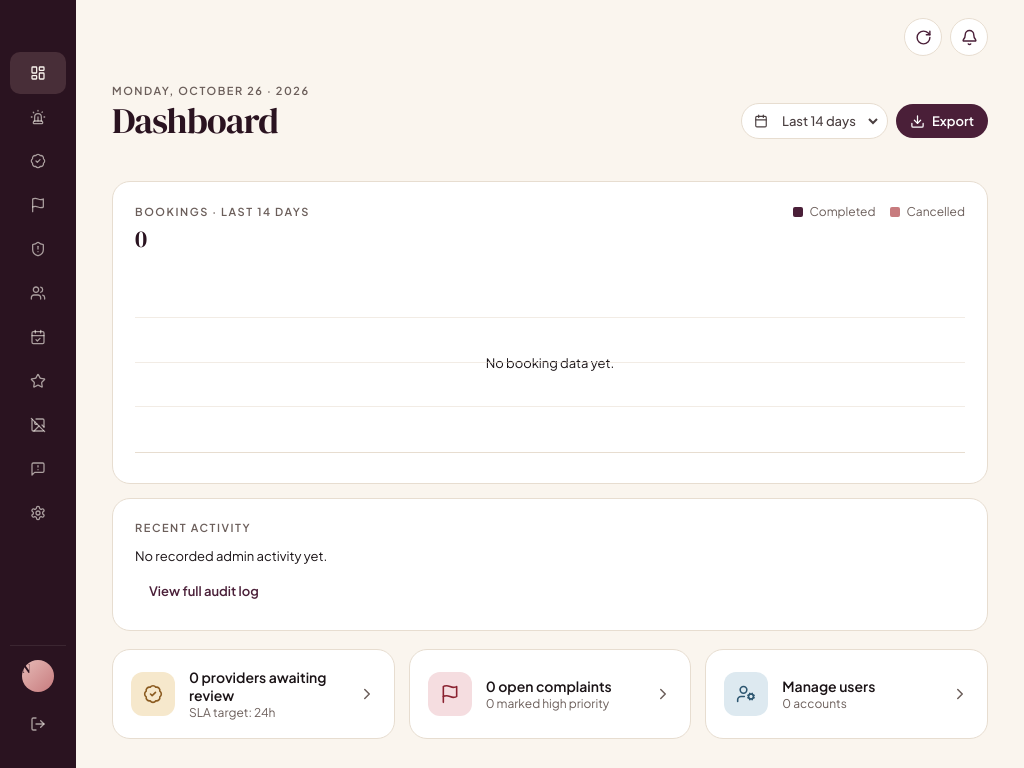
Test: <App> — CR-18 sign-out › tells the admin when the server could not confirm the revocation (SEC-02), while still signing out locally
Click the 12th button named "Logout": click(38, 724) [10, 704, 66, 744]
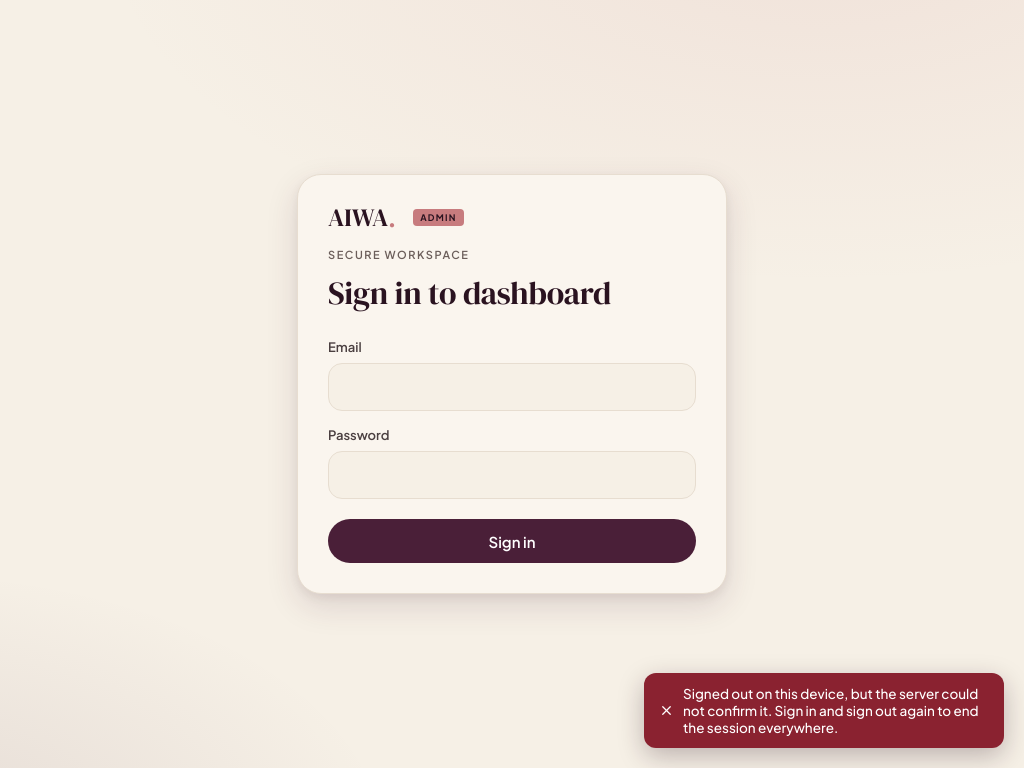
Result: the heading "Sign in to dashboard" is shown at [328, 271, 611, 315]
Result: the text "server could not confirm" is shown at [683, 685, 979, 736]
